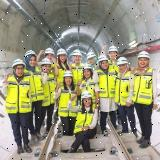Helmet: (12, 58, 26, 70), (137, 50, 151, 61), (24, 50, 37, 60), (116, 57, 129, 66), (81, 90, 92, 100), (98, 54, 109, 64), (82, 63, 93, 72), (40, 58, 52, 66), (62, 70, 74, 78), (86, 51, 96, 60), (57, 48, 68, 56), (44, 48, 54, 56), (108, 46, 118, 54), (72, 49, 82, 56)
Vest: (4, 75, 32, 114), (131, 68, 156, 105), (22, 67, 44, 102), (113, 70, 134, 106), (96, 67, 118, 99), (74, 104, 96, 134), (58, 86, 78, 117), (38, 72, 56, 106), (80, 78, 100, 108), (69, 63, 87, 94), (55, 64, 71, 95), (42, 61, 56, 83), (106, 58, 120, 74)
